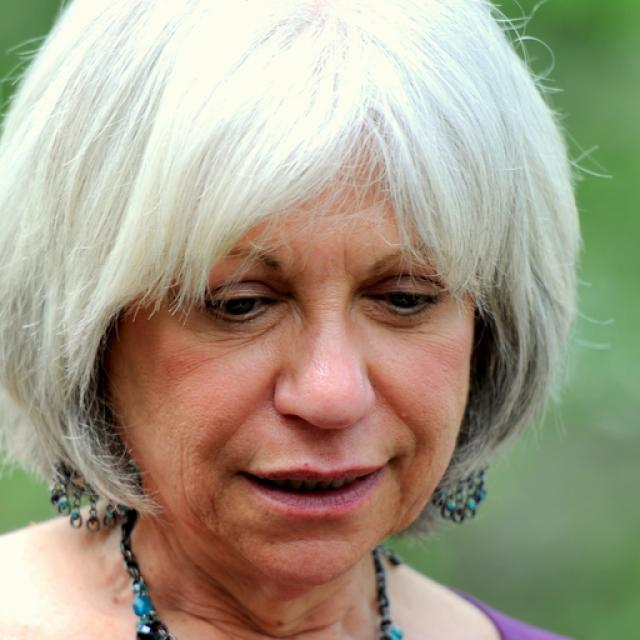sad: (114, 96, 476, 586)
